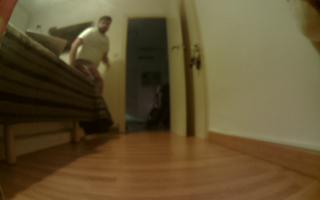person: (68, 7, 123, 71)
